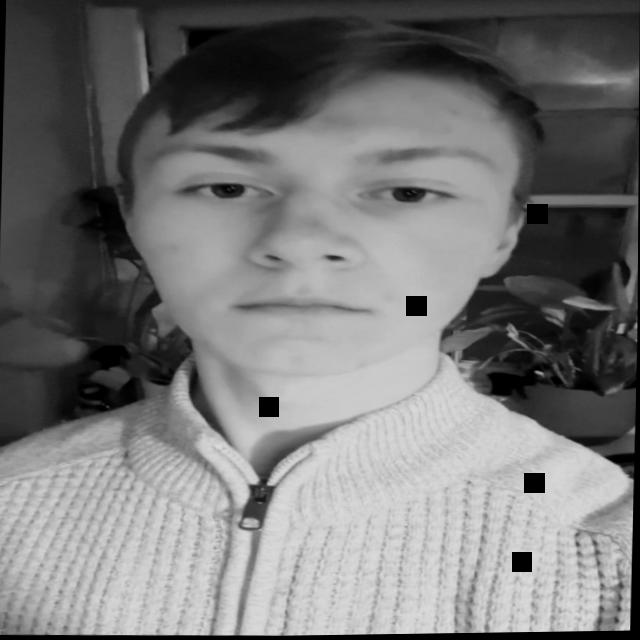NO-Mask: (126, 57, 521, 379)
